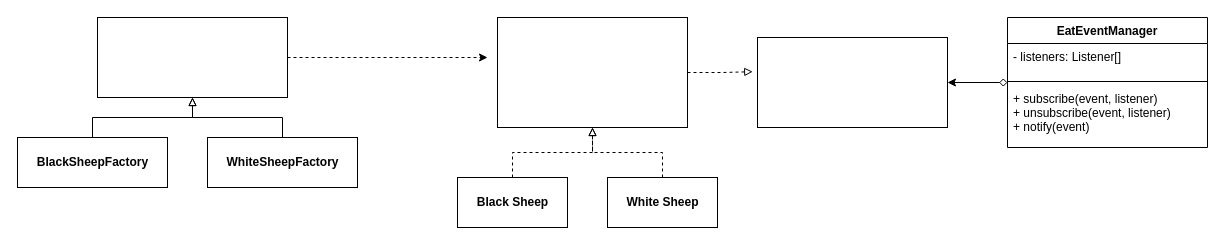
Image size: 1225x245. Some labels were removed from this diagram. The centre of each missing label's shape, as x and y in pixels:
"<<Interface>> EatListener + eat()" goes at [852,82].
"<<Interface>> Sheep + image: String + position: Point + move()" goes at [592,72].
"<<Interface>> SheepFactory + createSheep(): Sheep" goes at [192,57].
